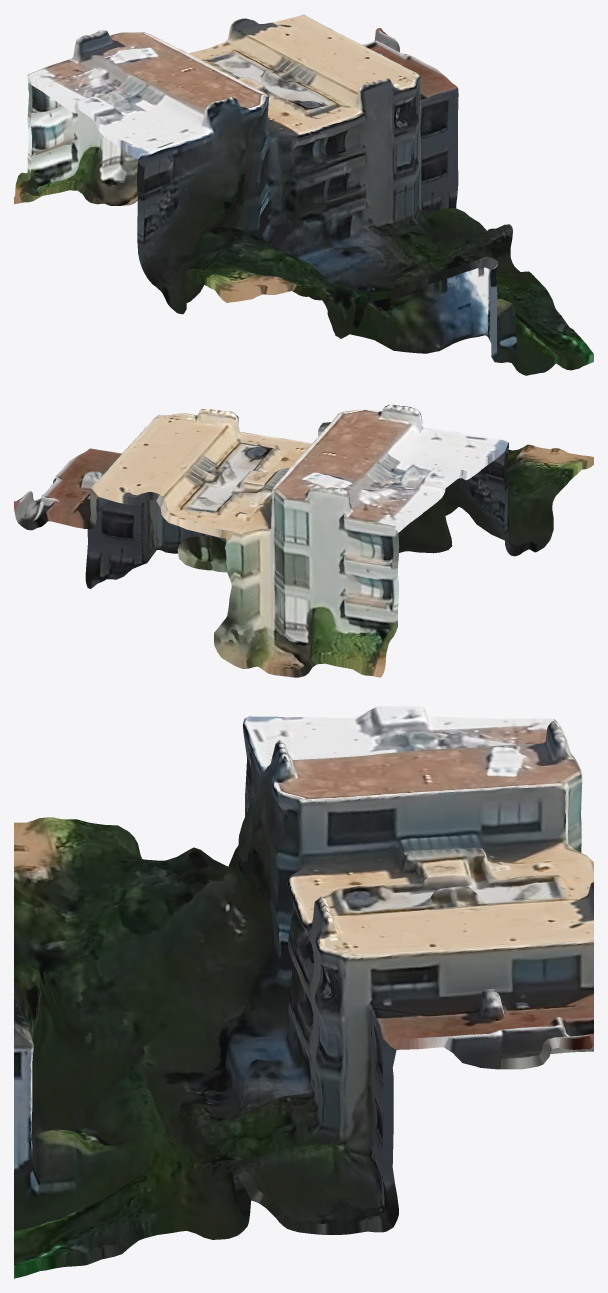
File: z20-167715-405194-h0-yup-uvflip-v3-world.glb
3 renders of one model, top to bottom at view 1: azimuth 30°, elevation 25°; view 2: azimuth 150°, elevation 25°; view 3: azimuth 270°, elevation 25°, orthographic. The views are drawn at different scales.
Size of the model in its own units: 30.16 by 20.44 by 30.32.
1 material, 1 textured.
